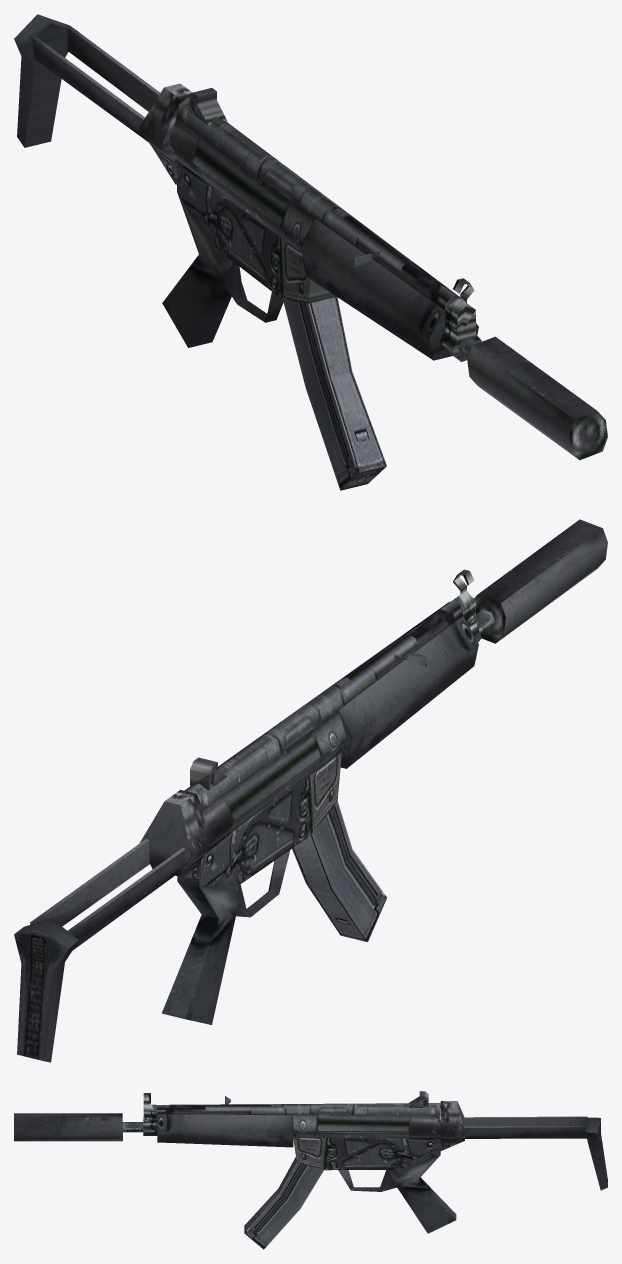
The picture shows the model from 3 angles, top to bottom: view 1: azimuth 30°, elevation 25°; view 2: azimuth 150°, elevation 25°; view 3: azimuth 270°, elevation 25°; orthographic projection. The views are drawn at different scales.
Parts seen in each view (by area): view 1: _mp5_3rd; view 2: _mp5_3rd; view 3: _mp5_3rd.
Part boxes in pixels (x1,y1,x2,y2): _mp5_3rd: [14, 14, 607, 490]; _mp5_3rd: [14, 519, 607, 1062]; _mp5_3rd: [14, 1091, 607, 1249].
Bounding box in the file's own units: 0.067 × 0.285 × 1.01.
1 material, 1 textured.
